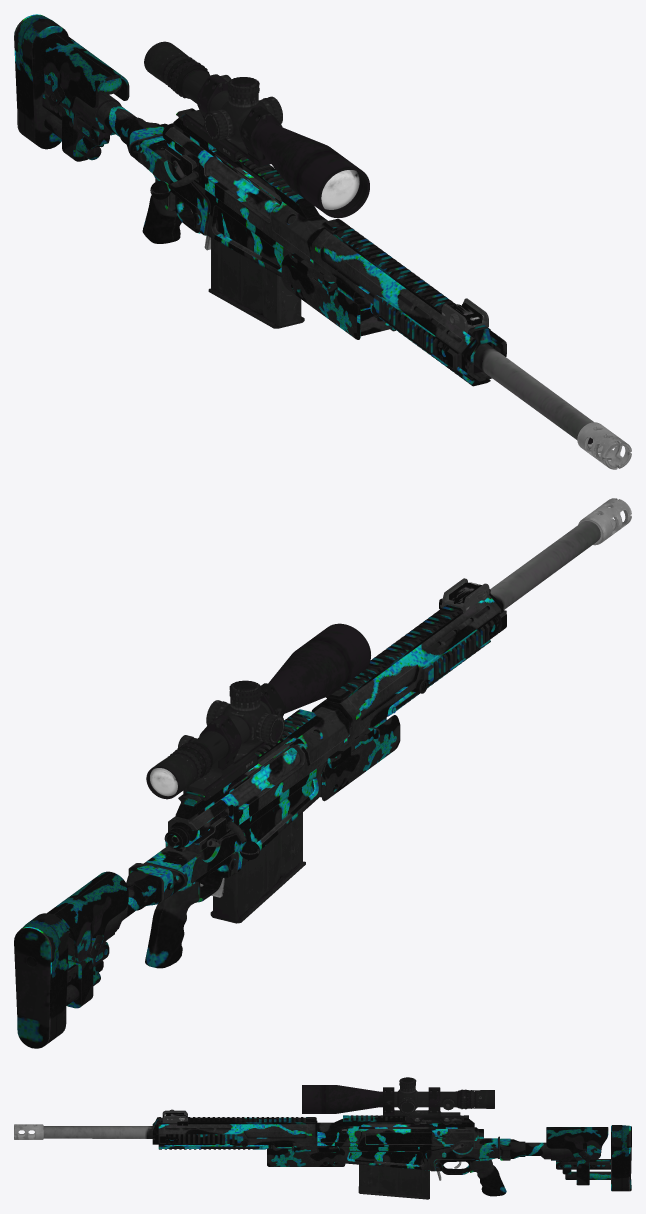
Rendered from Weapon-Sniper.glb.
3 views of the same model, one above another, from view 1: azimuth 30°, elevation 25°; view 2: azimuth 150°, elevation 25°; view 3: azimuth 270°, elevation 25° (orthographic). The views are drawn at different scales.
Parts seen in each view (by area): view 1: AX50; view 2: AX50; view 3: AX50.
Boxes of the visible parts, left/top/right/bottom form: AX50: left=14, top=14, right=631, bottom=469; AX50: left=14, top=498, right=631, bottom=1048; AX50: left=14, top=1077, right=631, bottom=1199.
Size of the model in its own units: 2.27 by 5.7 by 27.47.
Materials: 1 (1 with a texture image).
